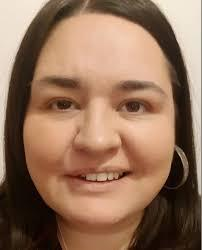strokeEyeWeak: (36, 74, 169, 121)
strokeMouthWeak: (63, 163, 136, 195)
